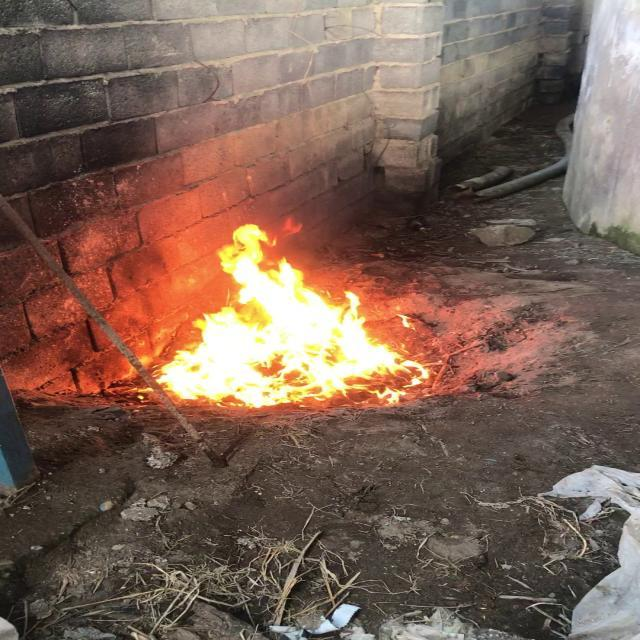Fire: (150, 237, 450, 418)
